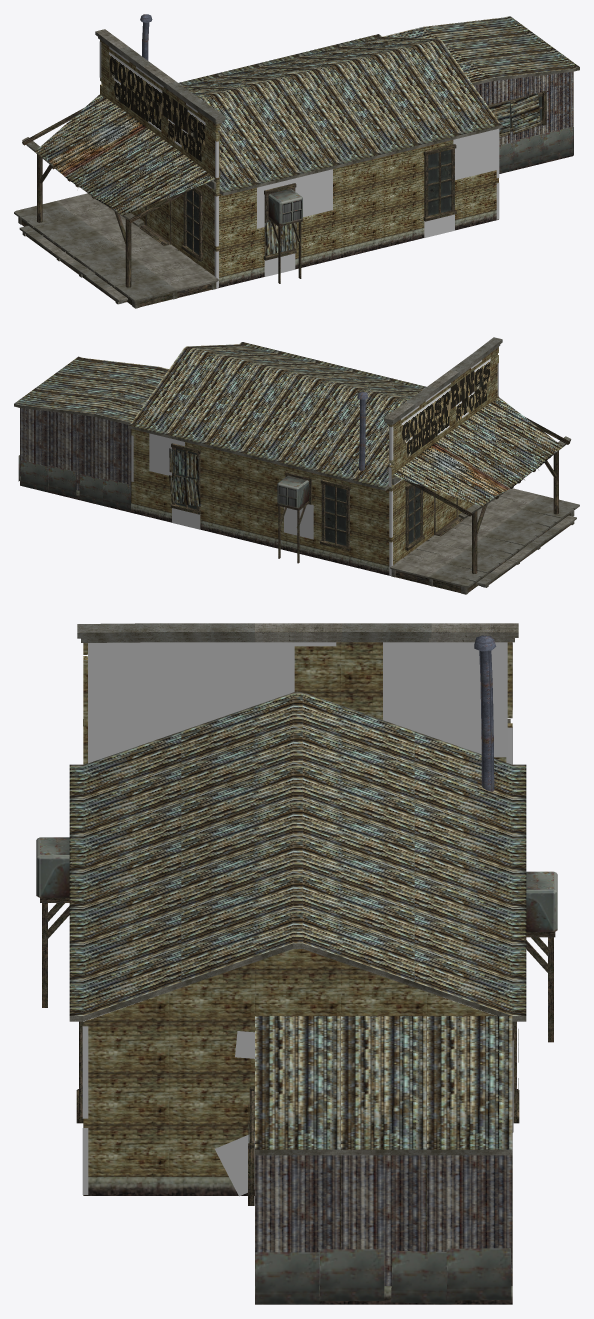
The model's file is GeneralStore.obj.
3 views of the same model, one above another, from view 1: azimuth 30°, elevation 25°; view 2: azimuth 150°, elevation 25°; view 3: azimuth 270°, elevation 25° (orthographic). The views are drawn at different scales.
Visible parts, largest first — view 1: GeneralStore:__PrenotatoPerDuplicare_0, GeneralStore:__PrenotatoPerDuplicare_2, GeneralStore:__PrenotatoPerDuplicare_4, GeneralStore:__PrenotatoPerDuplicare_1, GeneralStore:__PrenotatoPerDuplicare_3; view 2: GeneralStore:__PrenotatoPerDuplicare_0, GeneralStore:__PrenotatoPerDuplicare_2, GeneralStore:__PrenotatoPerDuplicare_1, GeneralStore:__PrenotatoPerDuplicare_4, GeneralStore:__PrenotatoPerDuplicare_3; view 3: GeneralStore:__PrenotatoPerDuplicare_0, GeneralStore:__PrenotatoPerDuplicare_4, GeneralStore:__PrenotatoPerDuplicare_2.
Part boxes in pixels (bbox=[...]): GeneralStore:__PrenotatoPerDuplicare_0: bbox=[21, 14, 579, 307]; GeneralStore:__PrenotatoPerDuplicare_2: bbox=[14, 29, 579, 308]; GeneralStore:__PrenotatoPerDuplicare_4: bbox=[99, 41, 499, 287]; GeneralStore:__PrenotatoPerDuplicare_1: bbox=[109, 52, 205, 161]; GeneralStore:__PrenotatoPerDuplicare_3: bbox=[186, 96, 541, 254]; GeneralStore:__PrenotatoPerDuplicare_0: bbox=[14, 342, 570, 592]; GeneralStore:__PrenotatoPerDuplicare_2: bbox=[14, 337, 579, 594]; GeneralStore:__PrenotatoPerDuplicare_1: bbox=[401, 358, 490, 458]; GeneralStore:__PrenotatoPerDuplicare_4: bbox=[131, 360, 498, 575]; GeneralStore:__PrenotatoPerDuplicare_3: bbox=[175, 448, 483, 545]; GeneralStore:__PrenotatoPerDuplicare_0: bbox=[36, 635, 557, 1304]; GeneralStore:__PrenotatoPerDuplicare_4: bbox=[82, 642, 513, 1196]; GeneralStore:__PrenotatoPerDuplicare_2: bbox=[69, 623, 526, 1155].
Bounding box in the file's own units: 1591 × 561 × 777.
